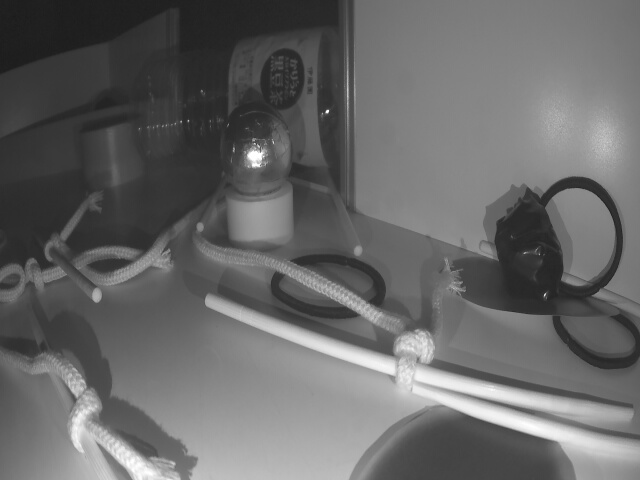Dead: (495, 187, 560, 306)
Live: (227, 109, 291, 193)
Point: (0, 90, 160, 187)
